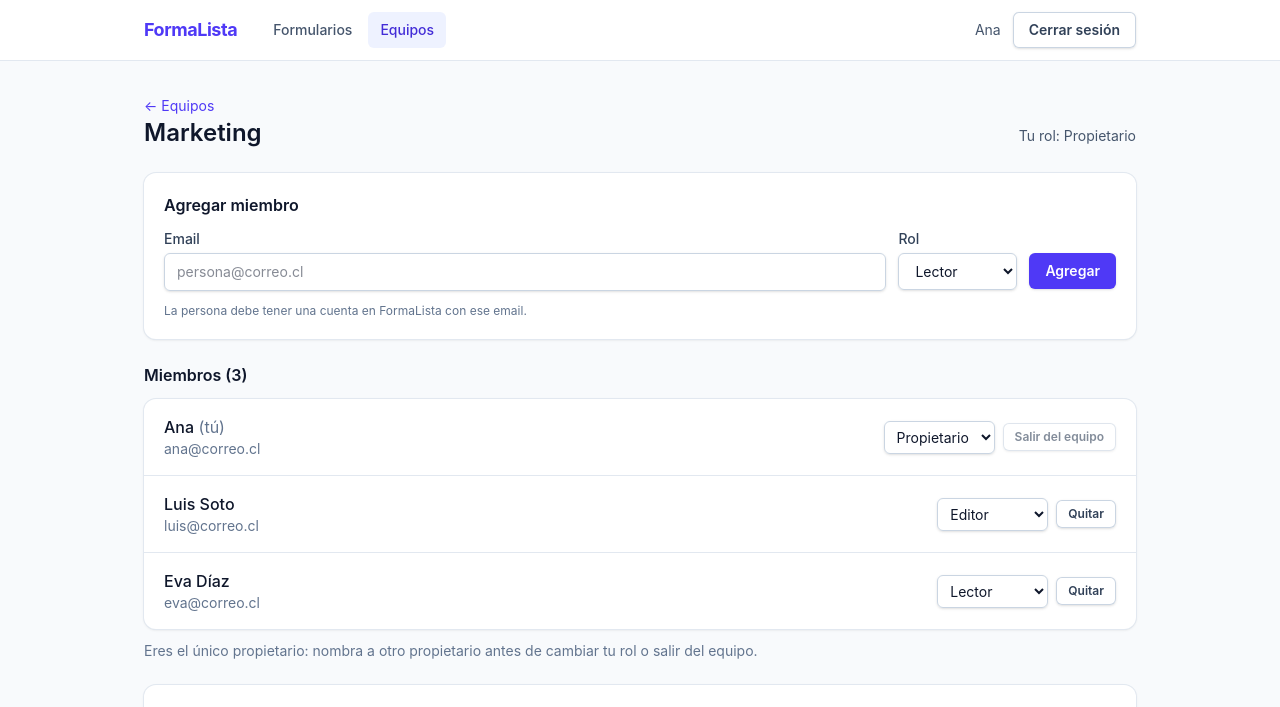
Equipos: miembros (como propietaria) › si el cambio de rol falla, el select vuelve al valor guardado y se muestra el error
Select "Editor" in the dropdown named "Rol de Eva Díaz" in the row of "Eva Díaz": x=993, y=591 [937, 574, 1048, 608]
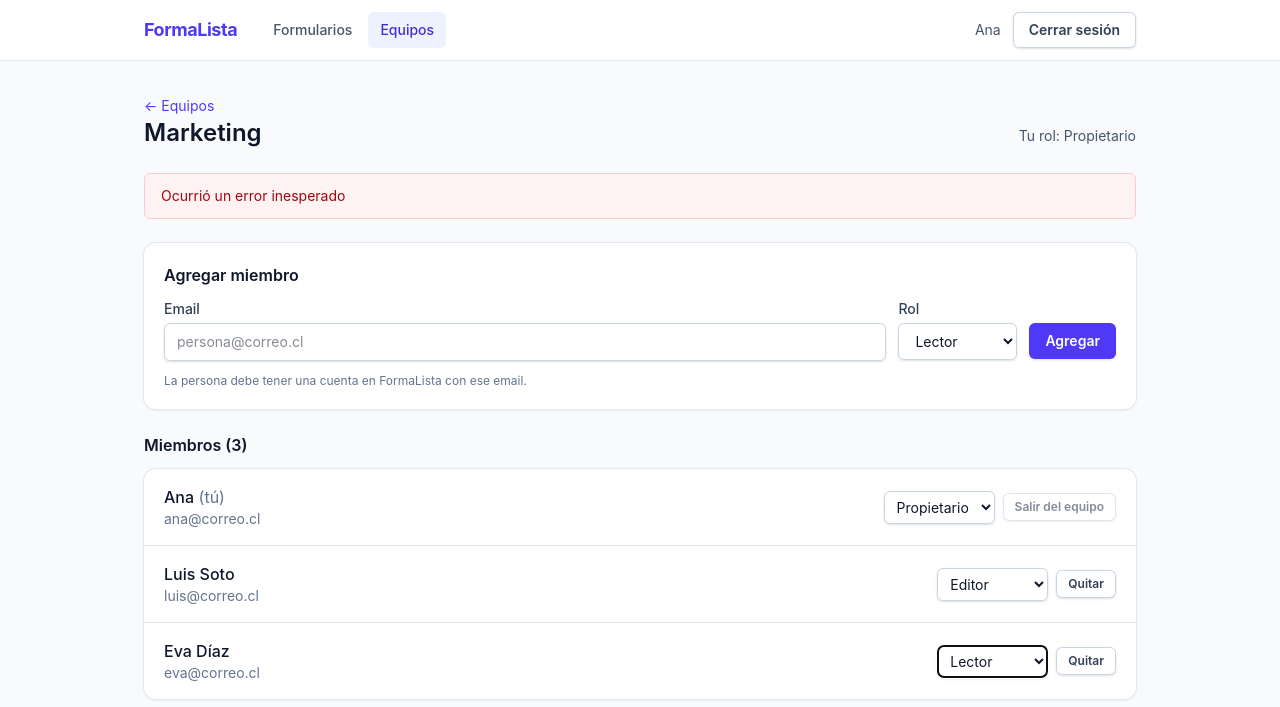
Now the message reads "Ocurrió un error inesperado", box [161, 187, 345, 204]
